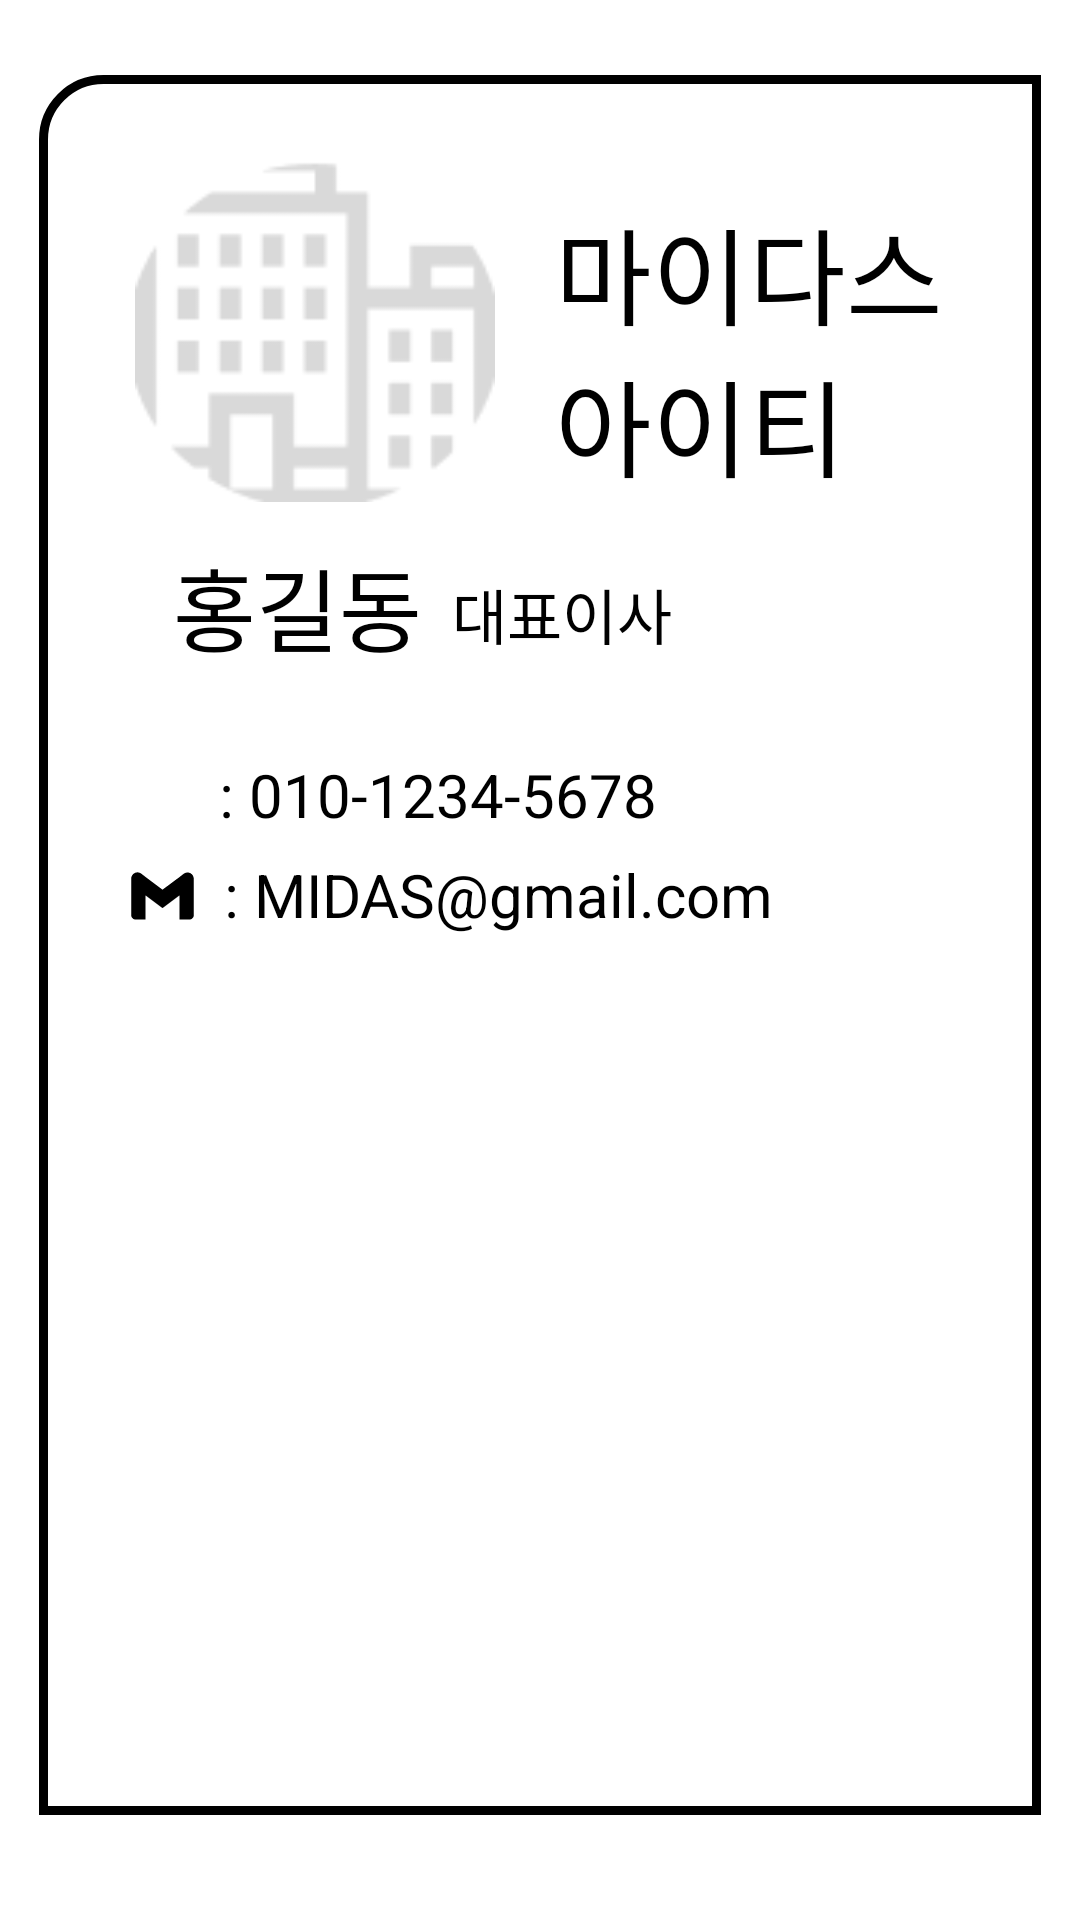

Where to tap for icons on this 1080w x 1920h app screen, as point (x, y):
company: point (315, 333)
